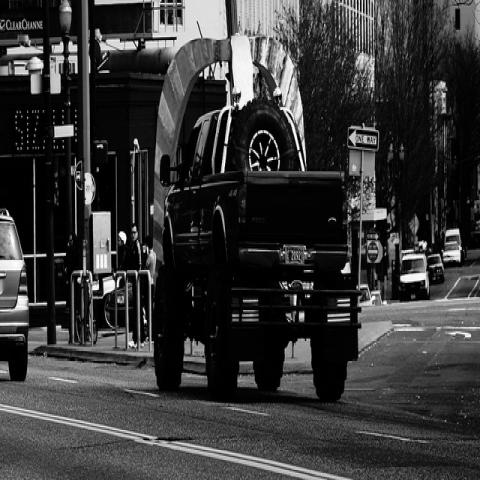car: (1, 208, 30, 383), (401, 249, 431, 301), (106, 282, 134, 328), (428, 254, 444, 282), (443, 241, 462, 263), (359, 284, 376, 306), (444, 228, 461, 248), (370, 290, 388, 305)
truck: (153, 88, 363, 404)
